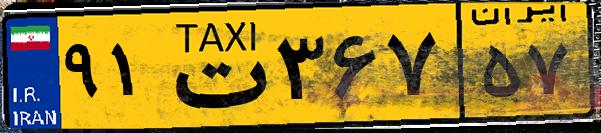1: (110, 28, 158, 98)
3: (270, 28, 330, 110)
5: (475, 38, 525, 113)
6: (330, 28, 385, 110)
7: (385, 28, 445, 110), (525, 38, 570, 115)
9: (57, 26, 110, 100)
ت: (158, 12, 270, 120)
